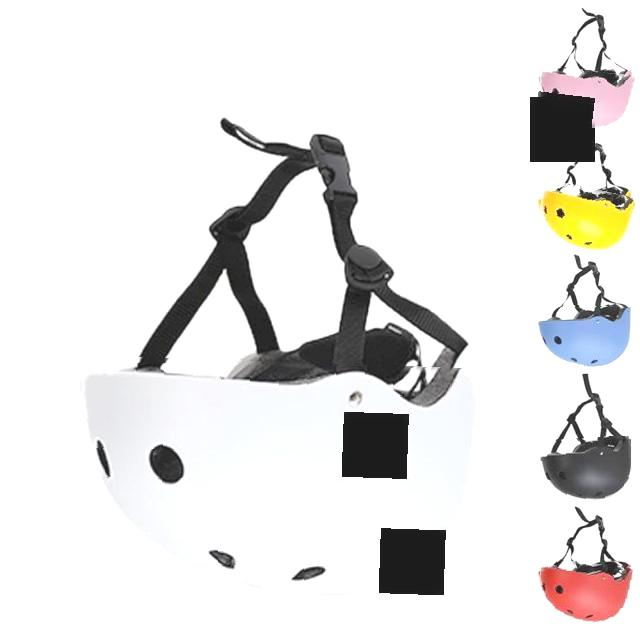helmet: (76, 358, 477, 602), (536, 183, 634, 253), (536, 67, 634, 130), (537, 560, 632, 624), (539, 437, 632, 502), (538, 305, 631, 367)
